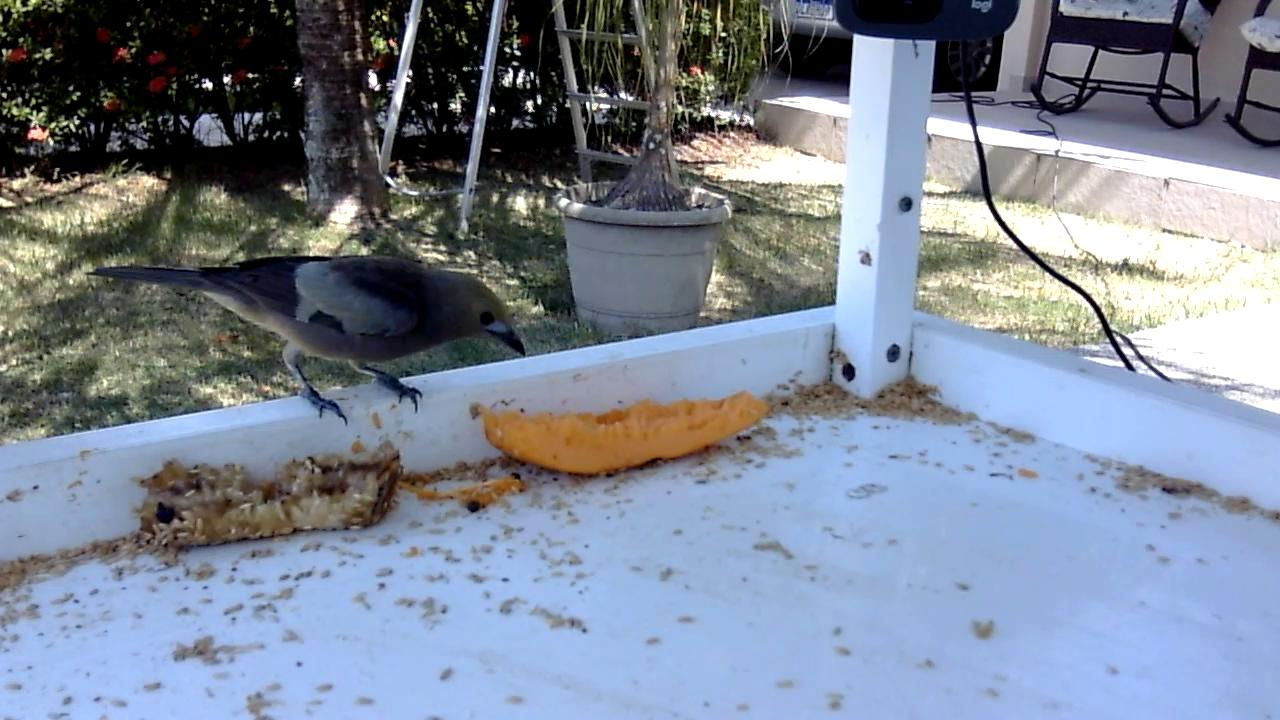sanhaco_do_coqueiro: (85, 254, 534, 429)
